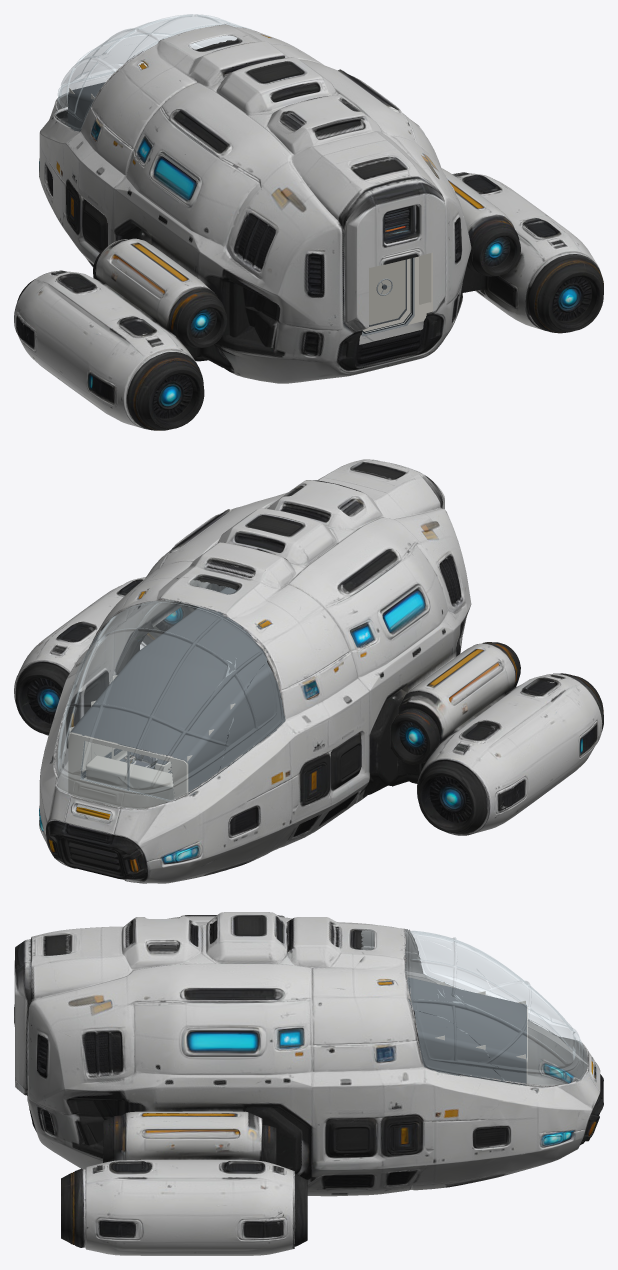
Rendered from 前挡玻璃-r2接缝对齐-r6.glb.
3 renders of one model, top to bottom at view 1: azimuth 30°, elevation 25°; view 2: azimuth 150°, elevation 25°; view 3: azimuth 270°, elevation 25°, orthographic. The views are drawn at different scales.
Visible parts, largest first — view 1: Exterior_Hull_90_0, Canopy_Glass_91_0, airlock-outer-door_9, Door_Outer-bulkhead_0, cockpit-wall-left_1, Door_Outer-bulkhead_9; view 2: Exterior_Hull_90_0, Canopy_Glass_91_0, cockpit-ceiling_1, rear-cabin-ceiling_1, front-window-frame_0, cockpit-wall-left_1, main-console_0, rear-cabin-wall-left_1; view 3: Exterior_Hull_90_0, Canopy_Glass_91_0, cockpit-ceiling_1, cockpit-wall-right_1.
Boxes of the visible parts, <box> form: Exterior_Hull_90_0: <box>14,24,603,430</box>; Canopy_Glass_91_0: <box>55,14,253,118</box>; airlock-outer-door_9: <box>369,260,405,325</box>; Door_Outer-bulkhead_0: <box>360,252,432,336</box>; cockpit-wall-left_1: <box>68,93,93,131</box>; Door_Outer-bulkhead_9: <box>419,253,431,304</box>; Exterior_Hull_90_0: <box>14,459,603,883</box>; Canopy_Glass_91_0: <box>51,580,266,822</box>; cockpit-ceiling_1: <box>70,654,251,761</box>; rear-cabin-ceiling_1: <box>135,587,271,683</box>; front-window-frame_0: <box>68,733,187,809</box>; cockpit-wall-left_1: <box>187,684,253,795</box>; main-console_0: <box>86,755,174,800</box>; rear-cabin-wall-left_1: <box>252,669,285,747</box>; Exterior_Hull_90_0: <box>14,912,603,1255</box>; Canopy_Glass_91_0: <box>361,929,596,1091</box>; cockpit-ceiling_1: <box>405,977,526,1058</box>; cockpit-wall-right_1: <box>418,1033,526,1085</box>.
Size of the model in its own units: 14.46 by 6.95 by 16.
47 materials, 14 textured.
